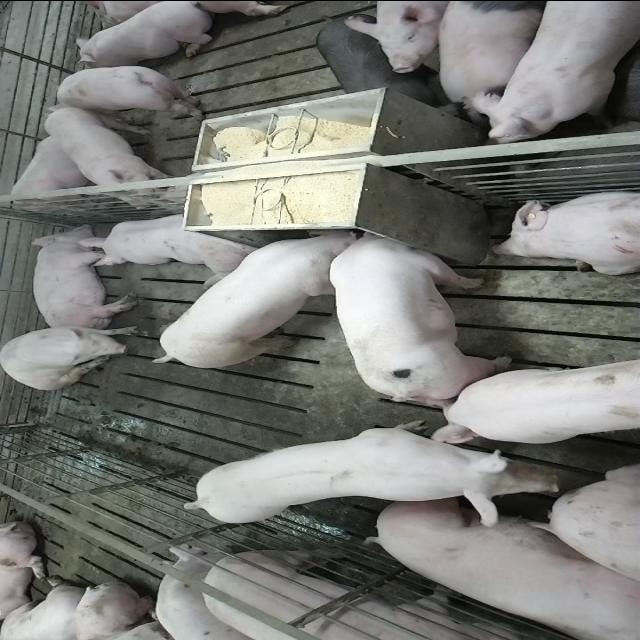Feeding: (328, 221, 512, 398), (143, 229, 359, 373)
Lateral_lying: (26, 223, 140, 331)
Sitting: (1, 322, 143, 389)
Standing: (195, 546, 639, 640), (186, 421, 520, 527), (464, 2, 638, 146), (436, 352, 640, 440), (433, 3, 549, 119), (46, 104, 174, 204), (46, 61, 218, 118), (314, 13, 415, 100)
Sternal_lying: (490, 186, 640, 274), (80, 208, 262, 280), (68, 2, 216, 68), (5, 128, 99, 214)
